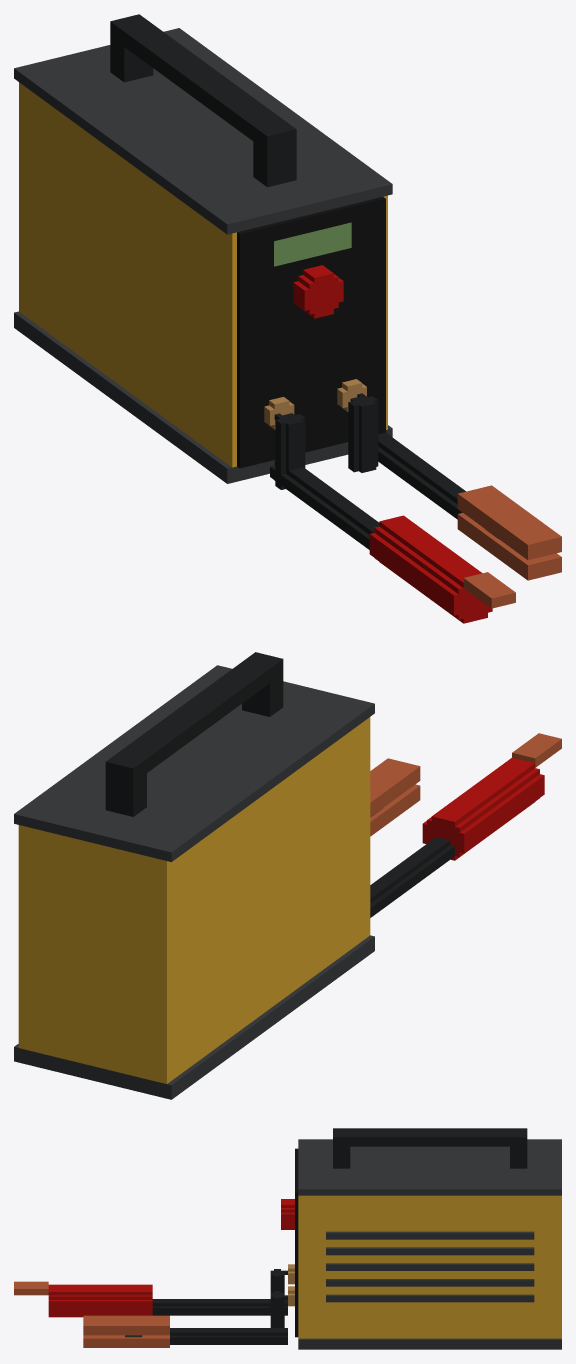
Rendered from welder.glb.
3 renders of one model, top to bottom at view 1: azimuth 30°, elevation 25°; view 2: azimuth 150°, elevation 25°; view 3: azimuth 270°, elevation 25°, orthographic. The views are drawn at different scales.
Visible parts, largest first — view 1: welder:compound; view 2: welder:compound; view 3: welder:compound.
Part boxes in pixels (<box>): welder:compound: <box>14,14,561,623</box>; welder:compound: <box>14,652,561,1099</box>; welder:compound: <box>14,1128,561,1349</box>.
Bounding box in the file's own units: 0.136 × 0.244 × 0.632.
